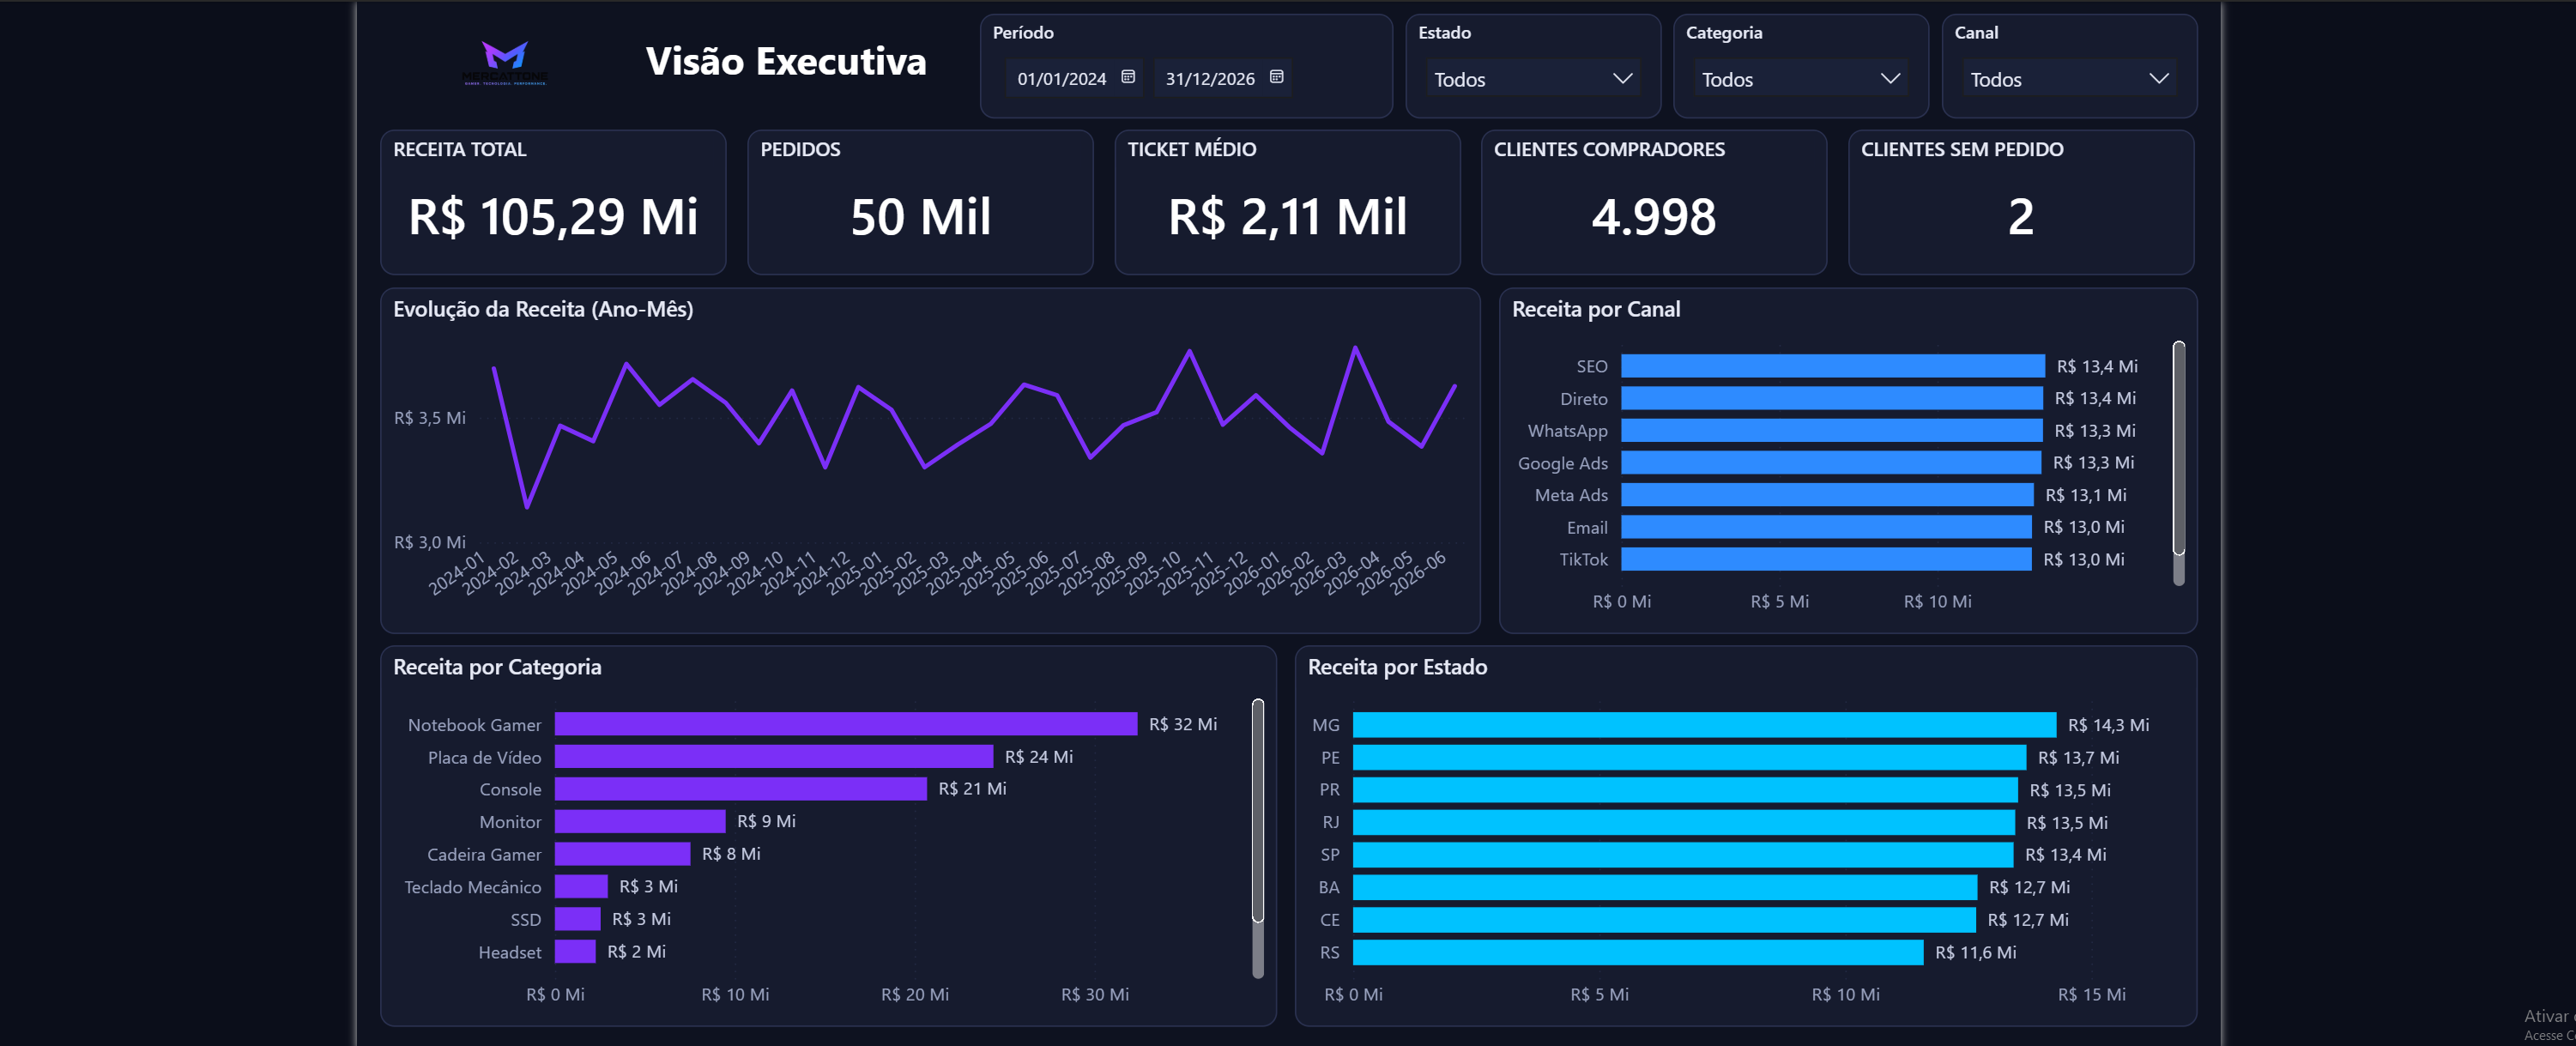

The dashboard page shown, as its layout file describes it:
{"tool":"powerbi","page":{"name":"Visão Executiva","canvas":[1280,720],"ordinal":0},"visuals":[{"type":"textbox","box":[188,15.9,210.9,56],"z":0},{"type":"slicer","title":"Período","fields":{"Values":["dCalendario.Date"]},"box":[428,8,284,72],"z":1000},{"type":"slicer","title":"Estado","fields":{"Values":["public clientes.estado"]},"box":[720,8,176,72],"z":2000},{"type":"slicer","title":"Categoria","fields":{"Values":["public pedidos.categoria"]},"box":[904,8,176,72],"z":3000},{"type":"slicer","title":"Canal","fields":{"Values":["public campanhas.canal"]},"box":[1088,8,176,72],"z":4000},{"type":"card","title":"RECEITA TOTAL","fields":{"Values":["_Medidas.Receita Total"]},"box":[16,88,238,100],"z":5000},{"type":"card","title":"PEDIDOS","fields":{"Values":["_Medidas.Quantidade de Pedidos"]},"box":[268,88,238,100],"z":6000},{"type":"card","title":"TICKET MÉDIO","fields":{"Values":["_Medidas.Ticket Médio"]},"box":[520,88,238,100],"z":7000},{"type":"card","title":"CLIENTES COMPRADORES","fields":{"Values":["_Medidas.Clientes Compradores"]},"box":[772,88,238,100],"z":8000},{"type":"card","title":"CLIENTES SEM PEDIDO","fields":{"Values":["_Medidas.Clientes sem Pedido"]},"box":[1024,88,238,100],"z":9000},{"type":"lineChart","title":"Evolução da Receita (Ano-Mês)","fields":{"Category":["dCalendario.Ano-Mês"],"Y":["_Medidas.Receita Total"]},"box":[16,196,756,238],"z":10000},{"type":"clusteredBarChart","title":"Receita por Canal","fields":{"Category":["public campanhas.canal"],"Y":["_Medidas.Receita Total"]},"box":[784,196,480,238],"z":11000},{"type":"clusteredBarChart","title":"Receita por Categoria","fields":{"Category":["public pedidos.categoria"],"Y":["_Medidas.Receita Total"]},"box":[16,442,616,262],"z":12000},{"type":"clusteredBarChart","title":"Receita por Estado","fields":{"Category":["public clientes.estado"],"Y":["_Medidas.Receita Total"]},"box":[644,442,620,262],"z":13000},{"type":"image","box":[15.9,11.8,172,68.3],"z":14000}]}

Visuals, with their boxes on the page's 1280x720 design canvas (x1, y1, x2, y2). These are canvas units, not pixel positions in the 2576x1046 screenshot, which may show the page scaled, cropped or inside an application window:
textbox: (left=188, top=16, right=399, bottom=72)
"Período" slicer: (left=428, top=8, right=712, bottom=80)
"Estado" slicer: (left=720, top=8, right=896, bottom=80)
"Categoria" slicer: (left=904, top=8, right=1080, bottom=80)
"Canal" slicer: (left=1088, top=8, right=1264, bottom=80)
"RECEITA TOTAL" card: (left=16, top=88, right=254, bottom=188)
"PEDIDOS" card: (left=268, top=88, right=506, bottom=188)
"TICKET MÉDIO" card: (left=520, top=88, right=758, bottom=188)
"CLIENTES COMPRADORES" card: (left=772, top=88, right=1010, bottom=188)
"CLIENTES SEM PEDIDO" card: (left=1024, top=88, right=1262, bottom=188)
"Evolução da Receita (Ano-Mês)" lineChart: (left=16, top=196, right=772, bottom=434)
"Receita por Canal" clusteredBarChart: (left=784, top=196, right=1264, bottom=434)
"Receita por Categoria" clusteredBarChart: (left=16, top=442, right=632, bottom=704)
"Receita por Estado" clusteredBarChart: (left=644, top=442, right=1264, bottom=704)
image: (left=16, top=12, right=188, bottom=80)
